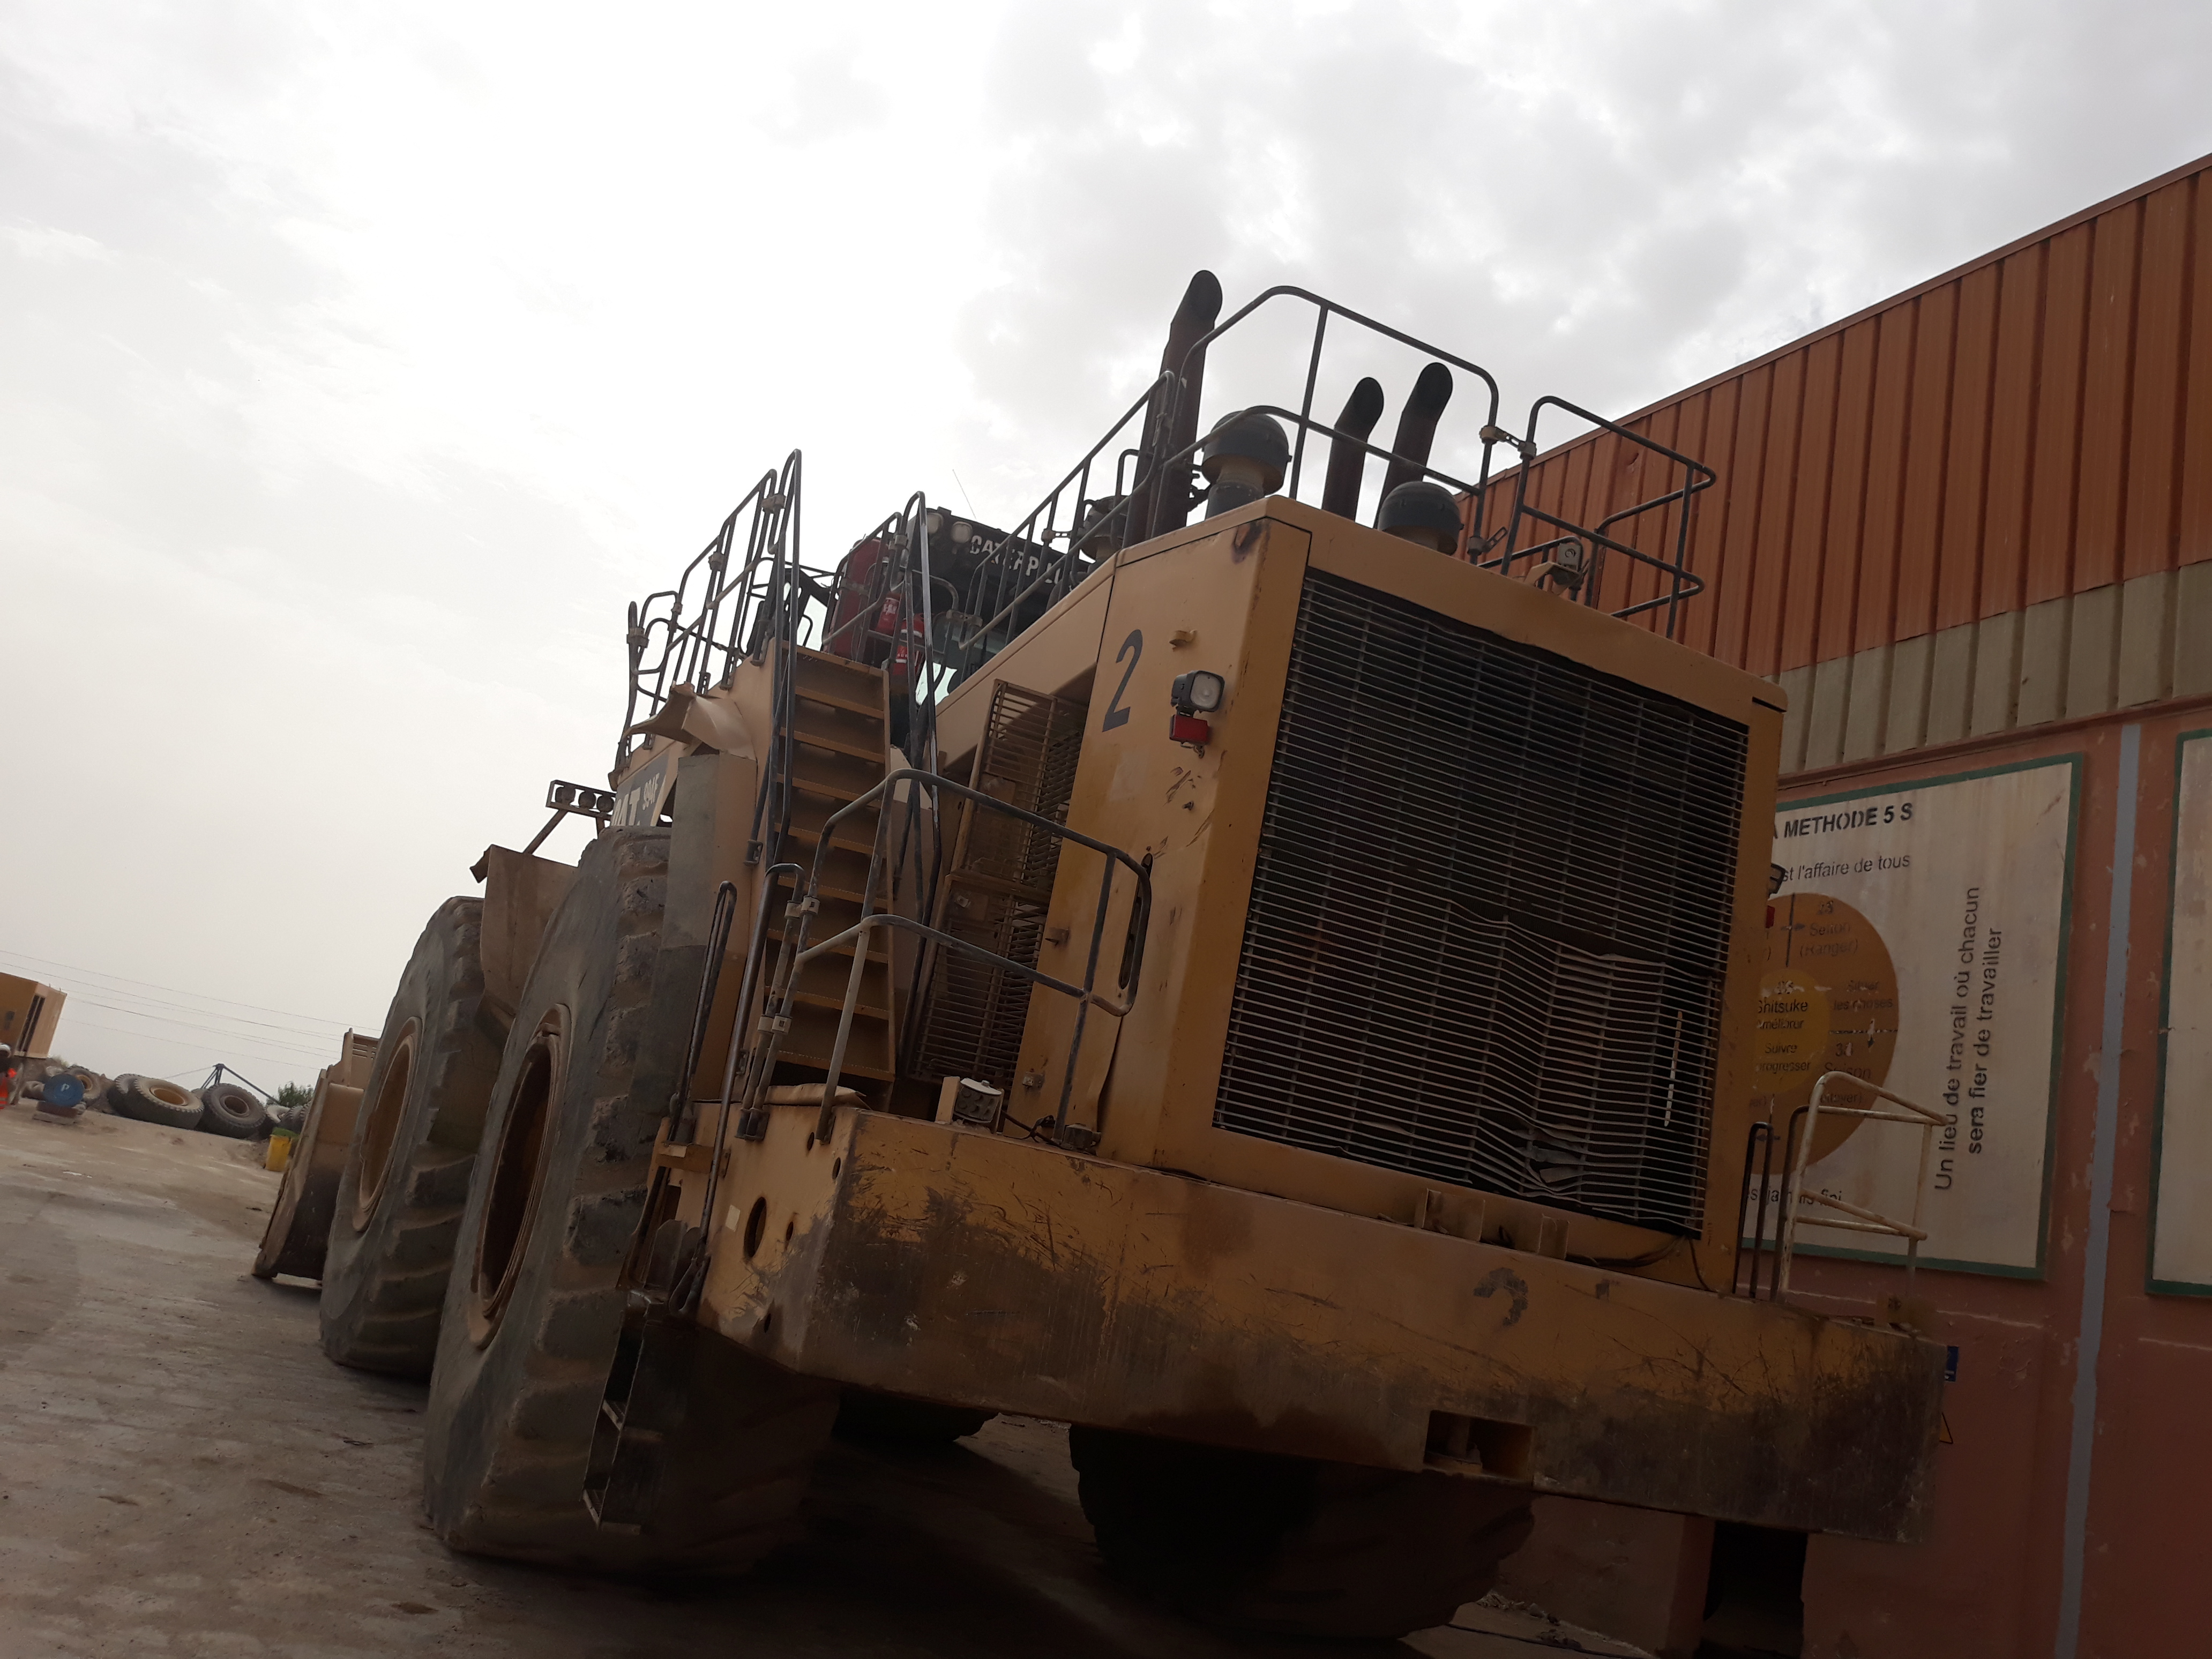chargeuse: (221, 268, 1986, 1659)
